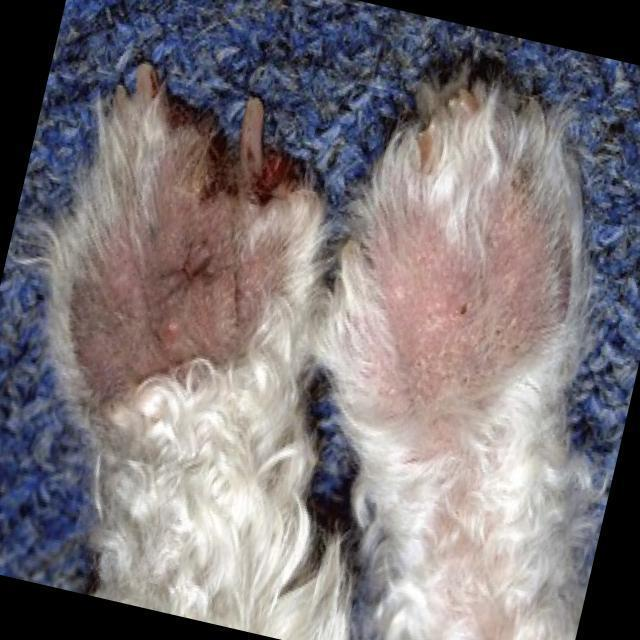allergic dermatitis: (75, 148, 278, 420), (350, 149, 559, 409)
